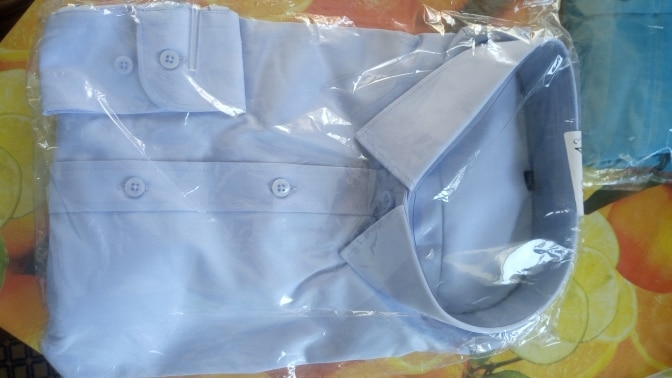shirts: (43, 13, 586, 357)
